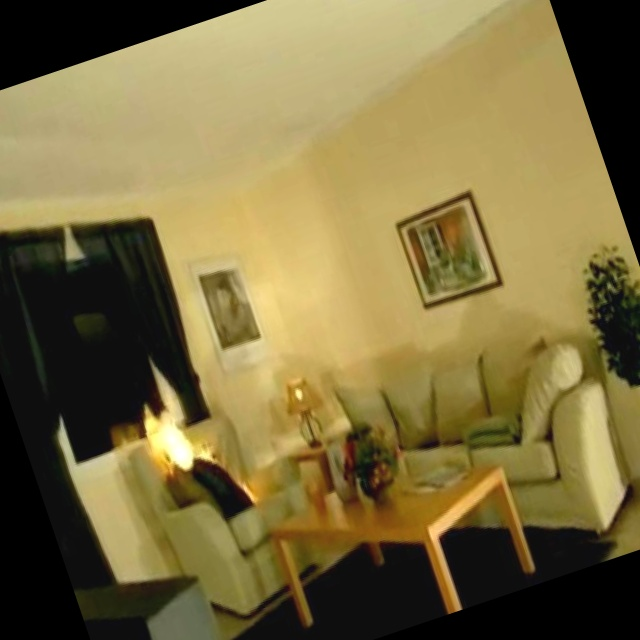fire: (112, 365, 283, 572)
